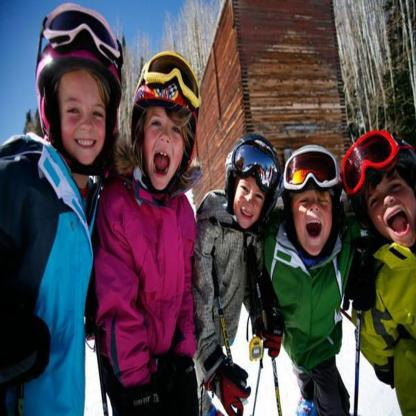face: (59, 71, 107, 166), (368, 171, 416, 249), (144, 102, 185, 192), (294, 189, 333, 257), (233, 174, 267, 230)
